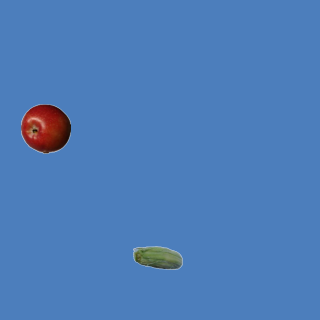Apple Braeburn: (20, 103, 70, 153)
Corn Husk: (132, 234, 182, 284)
